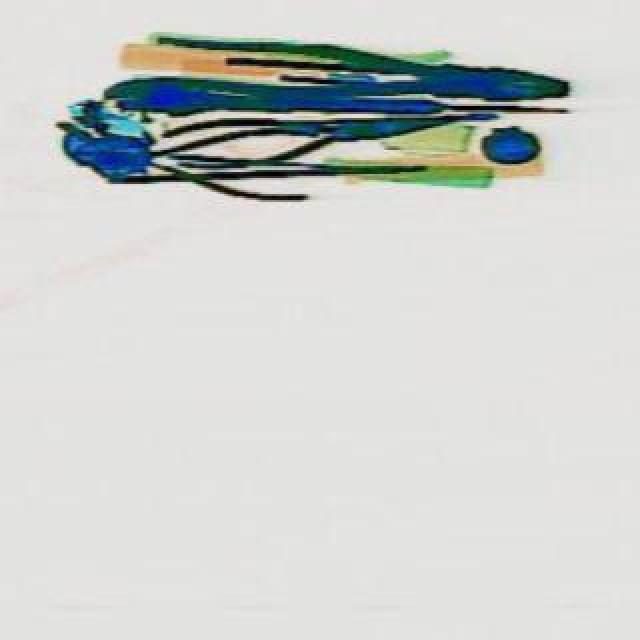wrench: (146, 32, 564, 112), (154, 96, 462, 172), (90, 114, 316, 200)
